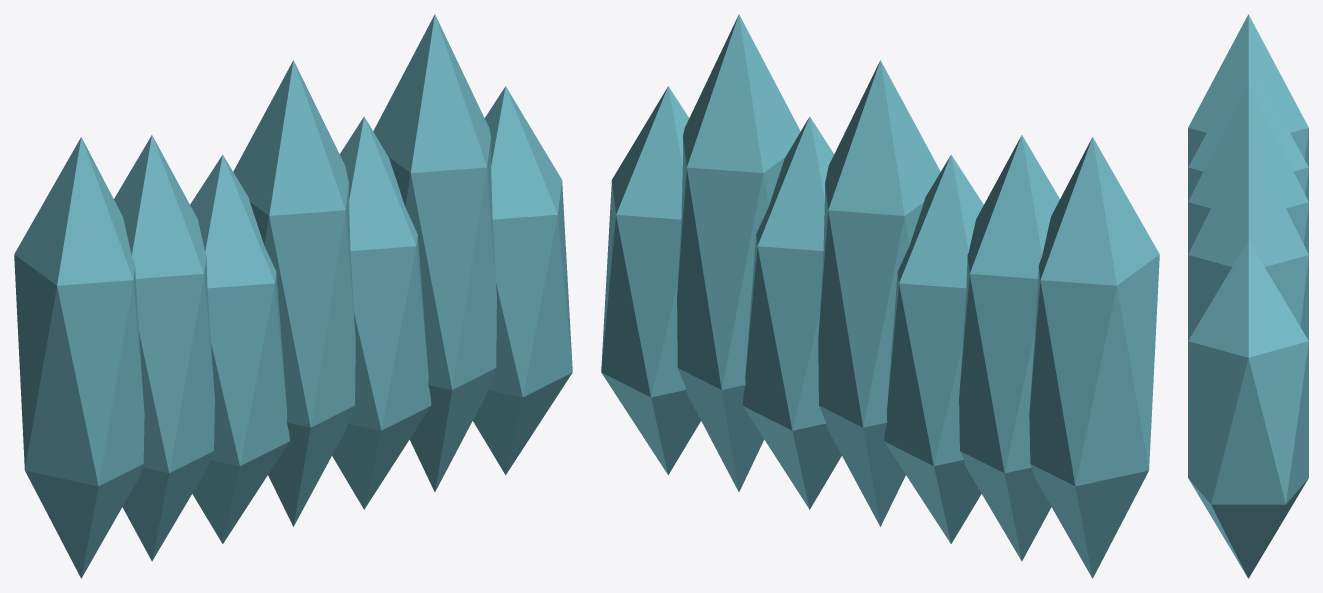
Rendered from SM_IceWall_200.glb.
3 renders of one model, left to right at view 1: azimuth 30°, elevation 25°; view 2: azimuth 150°, elevation 25°; view 3: azimuth 270°, elevation 25°, orthographic. The views are drawn at different scales.
Visible parts, largest first — view 1: SM_IceWall_200; view 2: SM_IceWall_200; view 3: SM_IceWall_200.
Part boxes in pixels (<box>): SM_IceWall_200: <box>14,14,572,578</box>; SM_IceWall_200: <box>601,14,1159,578</box>; SM_IceWall_200: <box>1188,14,1308,578</box>.
Size of the model in its own units: 2.13 by 1.81 by 0.4764.
